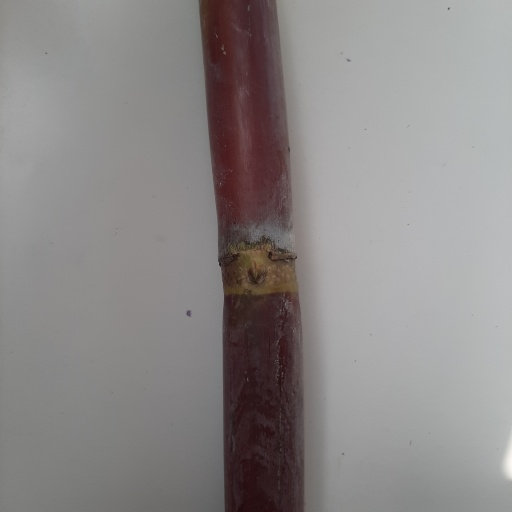Bud: (245, 258, 268, 287)
